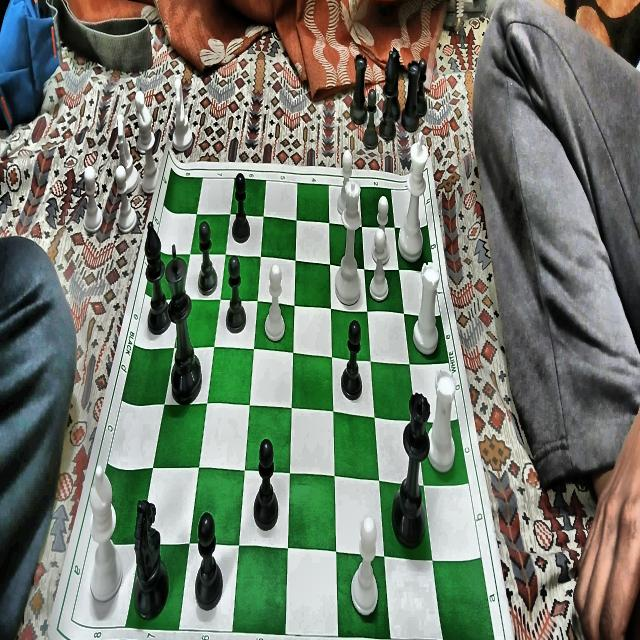BlackBishop: (144, 222, 170, 336), (380, 49, 396, 142)
BlackKing: (163, 244, 202, 403)
BlackKnight: (132, 495, 170, 619)
BlackPawn: (193, 511, 224, 610), (251, 437, 279, 529), (339, 316, 363, 402), (226, 253, 246, 334), (197, 221, 218, 295), (232, 175, 250, 242), (362, 88, 378, 148)
BlackQueen: (391, 392, 430, 552)
BlackRook: (402, 58, 422, 134), (350, 52, 368, 125)
WhiteBishop: (89, 464, 122, 604), (135, 96, 161, 197)
WhiteKing: (397, 131, 430, 263)
WhiteKnight: (169, 71, 192, 153), (115, 117, 138, 191)
WhitePawn: (349, 514, 380, 618), (115, 163, 139, 232), (82, 163, 104, 230), (371, 193, 390, 266), (371, 231, 388, 302)
WhiteQueen: (337, 178, 360, 307)
WhiteRook: (424, 372, 457, 472), (413, 260, 439, 356)
